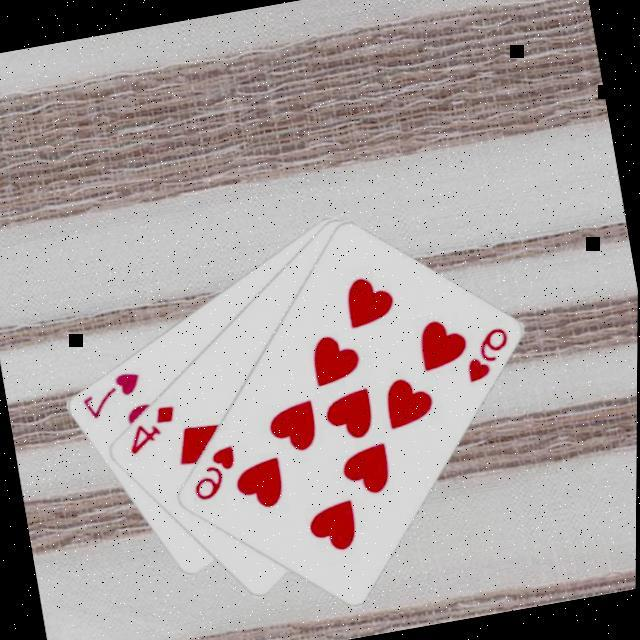4D: (120, 400, 186, 459)
7H: (76, 366, 150, 424)
9H: (458, 322, 520, 387), (185, 441, 246, 506)
